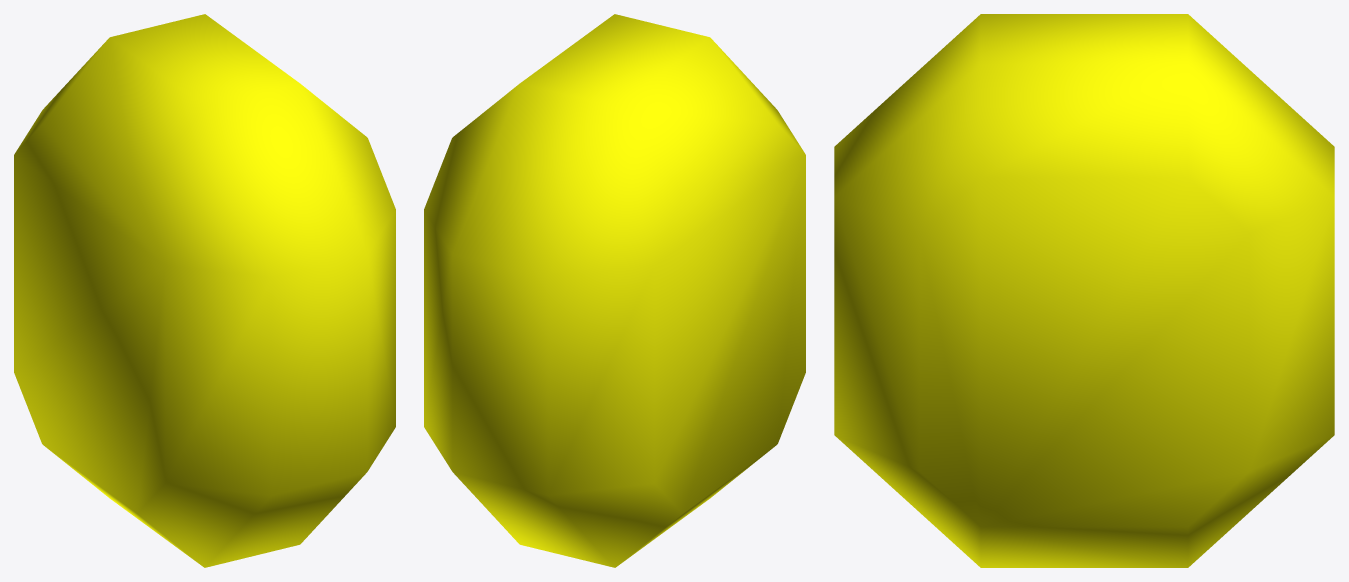
The model's file is hand_2finger.bbox.gltf.
3 renders of one model, left to right at view 1: azimuth 30°, elevation 25°; view 2: azimuth 150°, elevation 25°; view 3: azimuth 270°, elevation 25°, orthographic. The views are drawn at different scales.
Visible parts, largest first — view 1: hand_2finger.bbox; view 2: hand_2finger.bbox; view 3: hand_2finger.bbox.
Part boxes in pixels (left/top/right/bottom): hand_2finger.bbox: left=14, top=14, right=395, bottom=567; hand_2finger.bbox: left=424, top=14, right=805, bottom=567; hand_2finger.bbox: left=834, top=14, right=1334, bottom=567.
Bounding box in the file's own units: 0.063 × 0.1204 × 0.1085.
